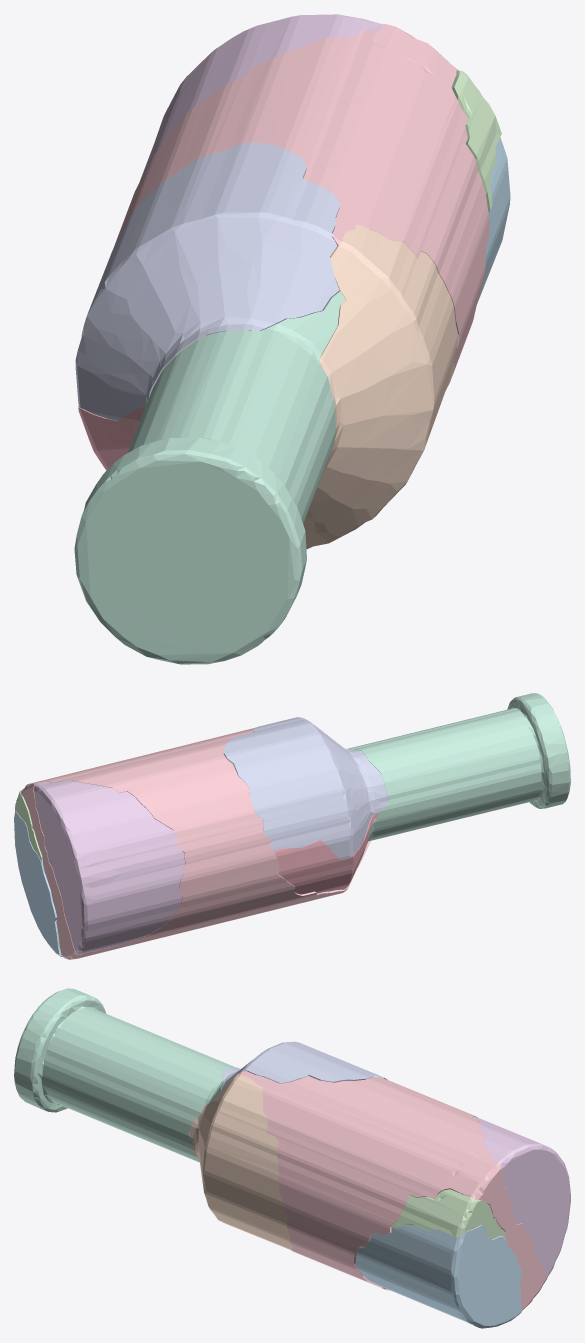
The model's file is view_assembly_9_colored.glb.
3 views of the same model, one above another, from view 1: azimuth 30°, elevation 25°; view 2: azimuth 150°, elevation 25°; view 3: azimuth 270°, elevation 25° (orthographic). The views are drawn at different scales.
Visible parts, largest first — view 1: world; view 2: world; view 3: world.
Part boxes in pixels (x1,y1,x2,y2): world: (74,14,510,664); world: (14,693,570,959); world: (14,988,570,1328).
Bounding box in the file's own units: 0.8252 × 0.376 × 0.9576.
